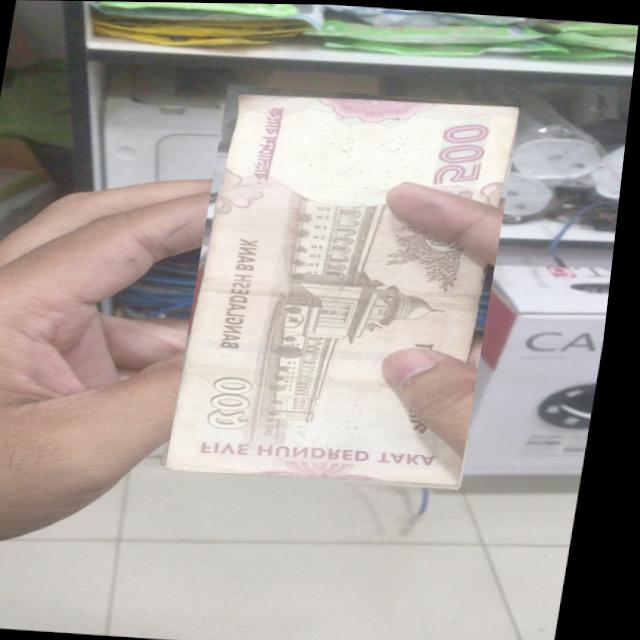Taka: (175, 84, 525, 489)
